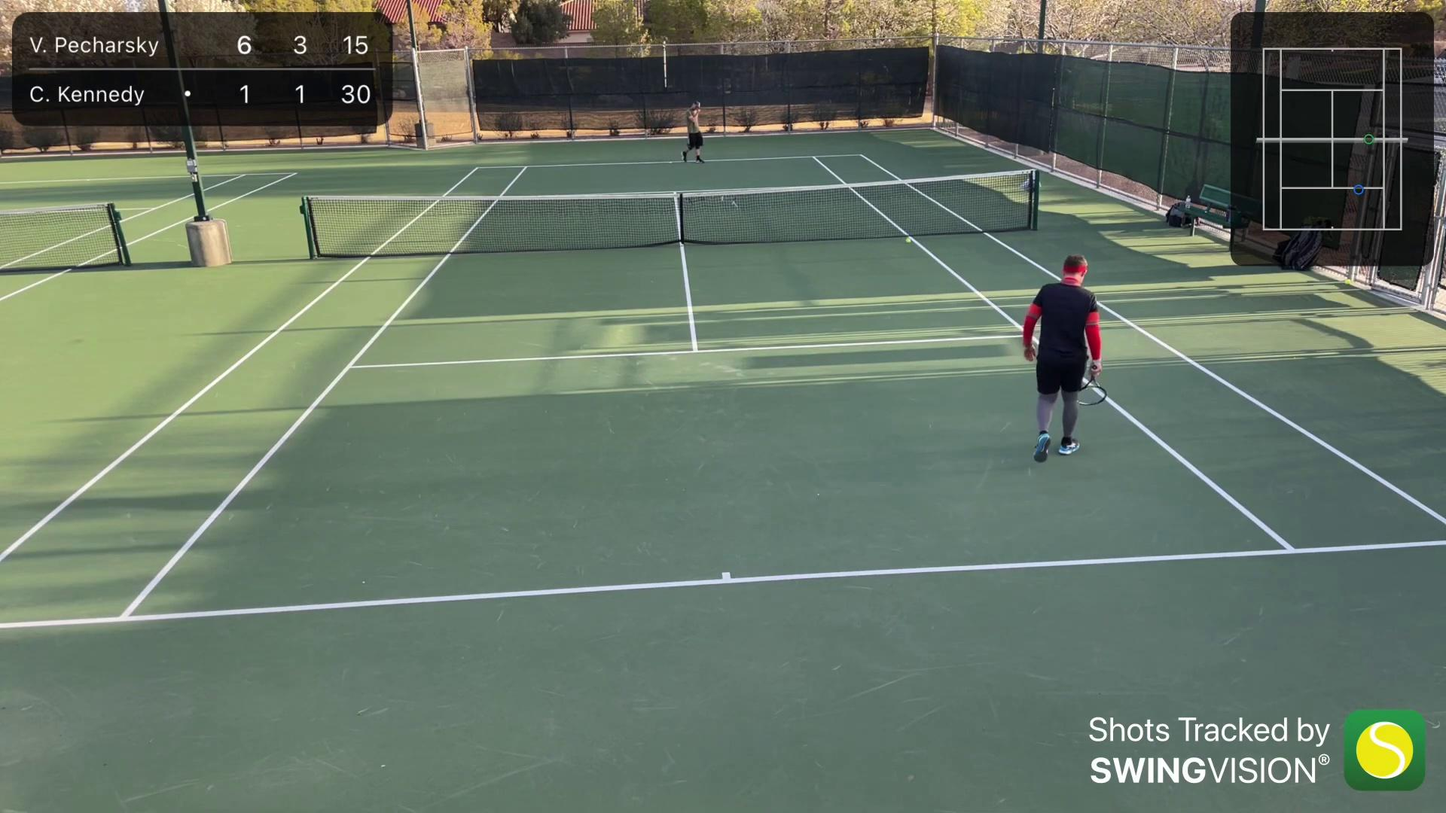ball: (905, 237, 912, 244)
